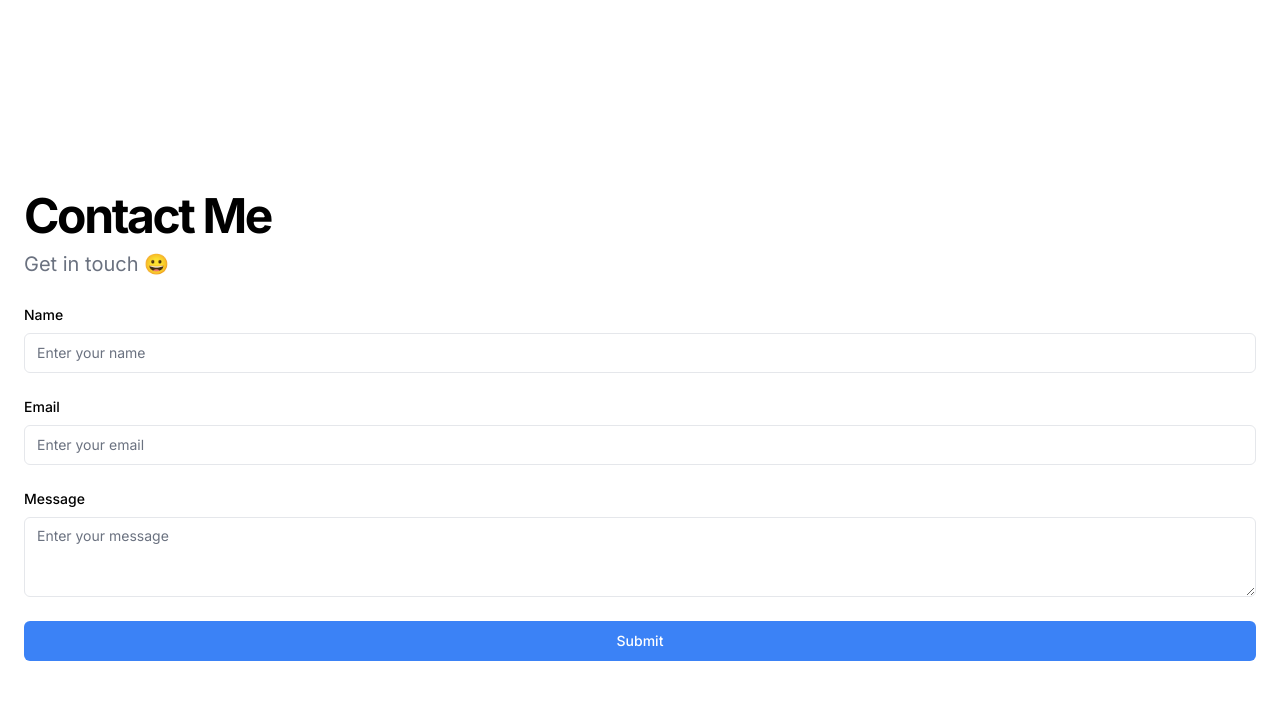
ContactMe Component › submits the form and shows error dialog
Type "John Doe" into the field labelled "Name" at (640, 352), box [24, 332, 1256, 372]
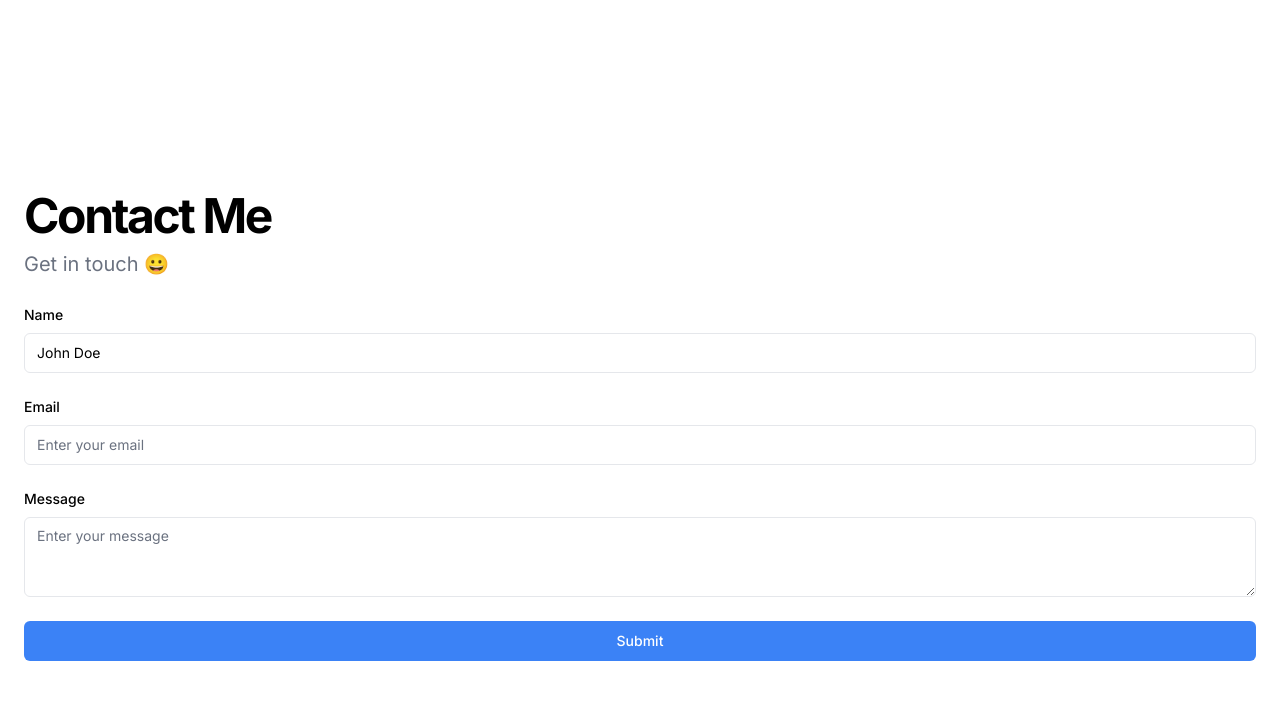
Type "john@example.com" into the field labelled "Email" at (640, 444), box [24, 424, 1256, 464]
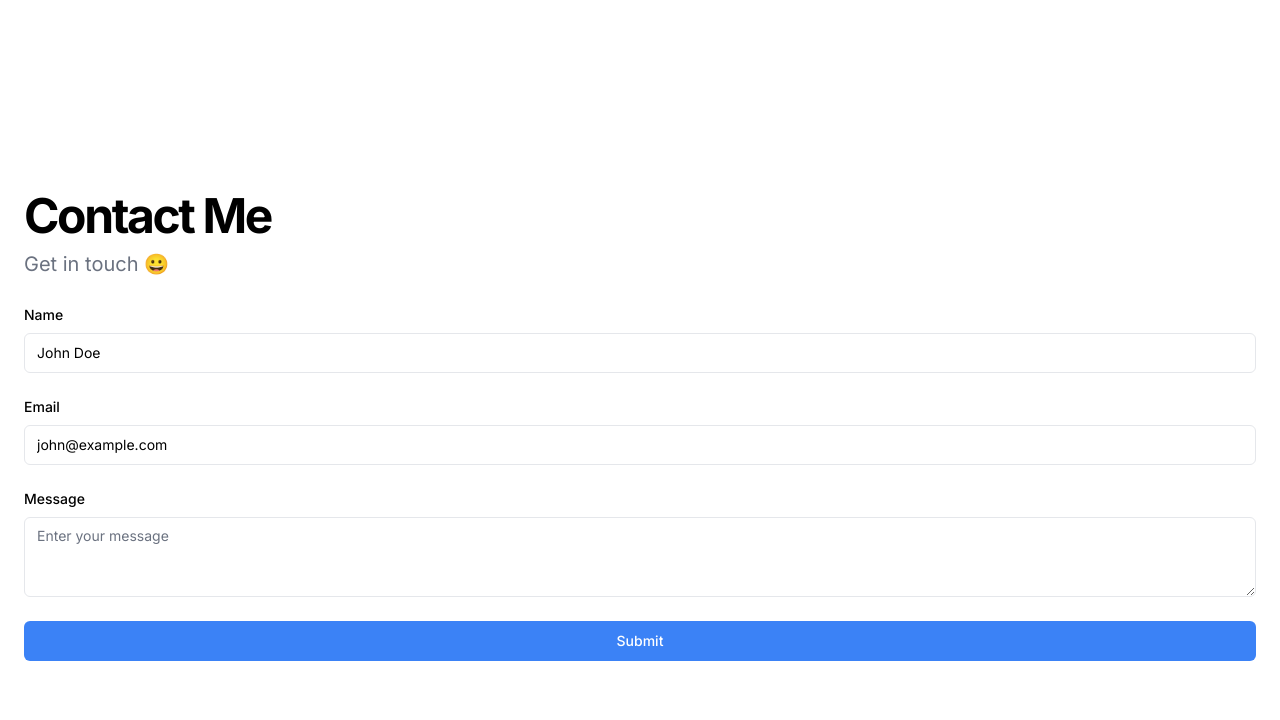
Type "Hello there!" into the text box labelled "Message" at (640, 556), box [24, 516, 1256, 596]
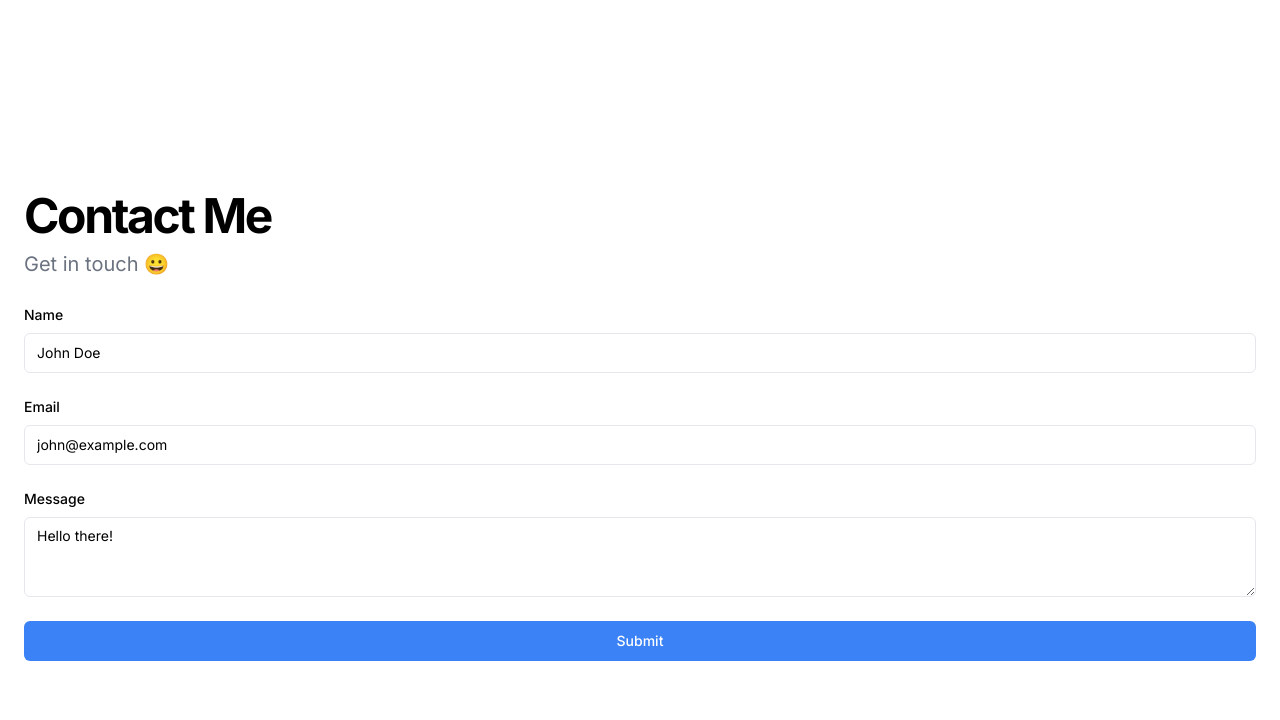
Click the button "Submit" at (640, 640), box [24, 620, 1256, 660]
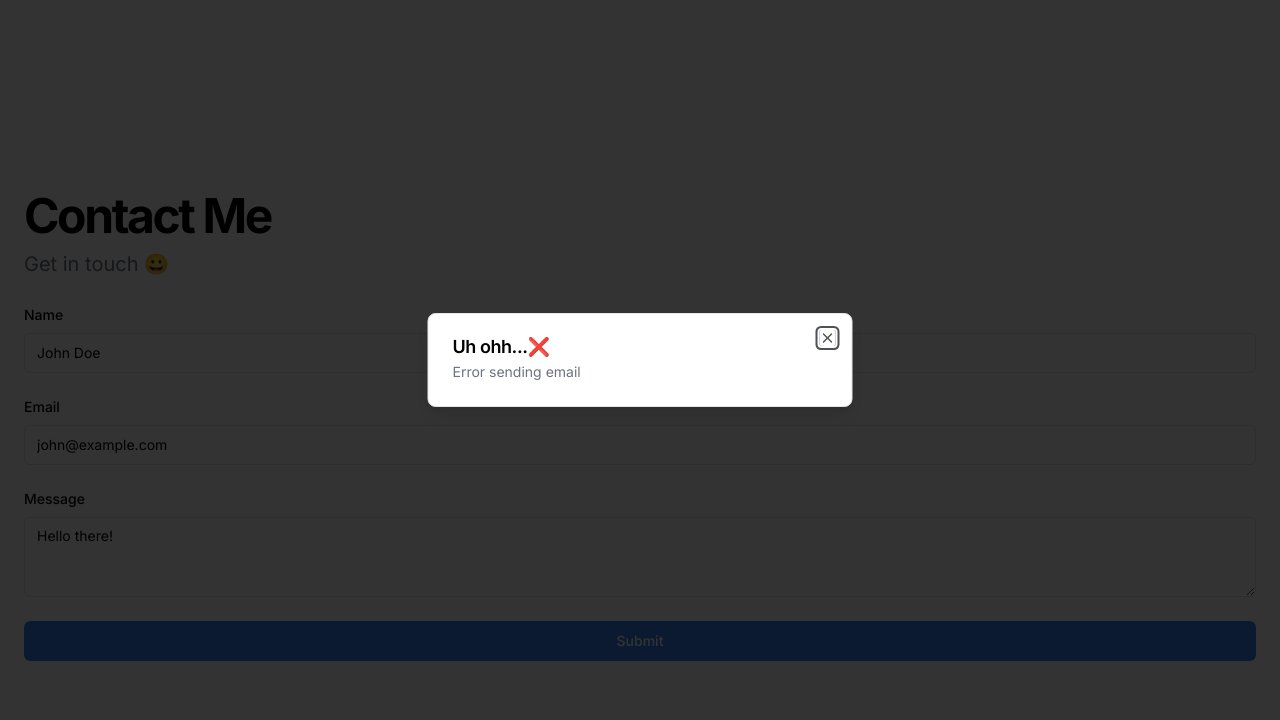
Check: the heading "Uh ohh...❌" is shown, box [452, 336, 550, 357]
Check: the text "Error sending email" is shown, box [452, 363, 581, 380]
